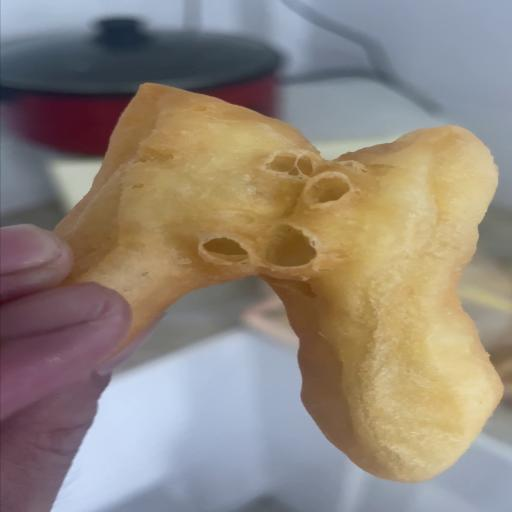street_golden_defect: (53, 84, 502, 486)
